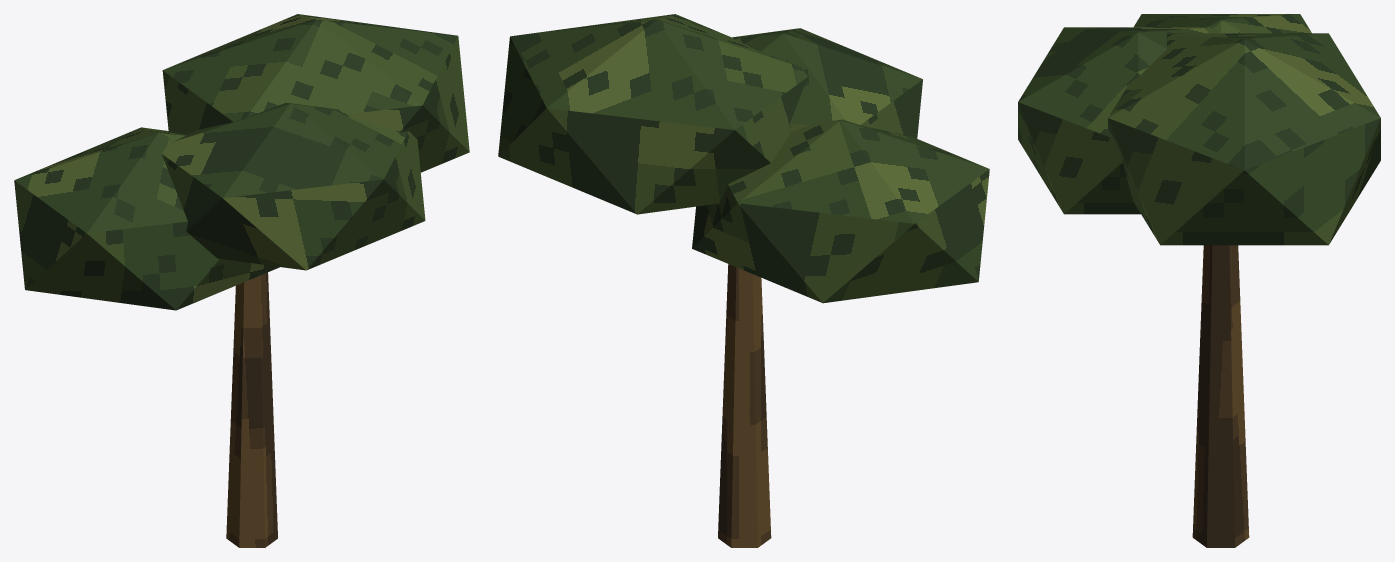
The model's file is Tree_Pine.fbx.
3 views of the same model, side by side, from view 1: azimuth 30°, elevation 25°; view 2: azimuth 150°, elevation 25°; view 3: azimuth 270°, elevation 25° (orthographic). The views are drawn at different scales.
Parts seen in each view (by area): view 1: Tree_Pine; view 2: Tree_Pine; view 3: Tree_Pine.
Boxes of the visible parts, x1,y1,x2,y2 form: Tree_Pine: [14, 14, 469, 547]; Tree_Pine: [498, 14, 989, 547]; Tree_Pine: [1018, 14, 1380, 547].
Bounding box in the file's own units: 475 × 503 × 308.
2 materials, 2 textured.
